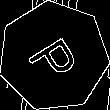P_NE: (22, 27, 85, 86)
